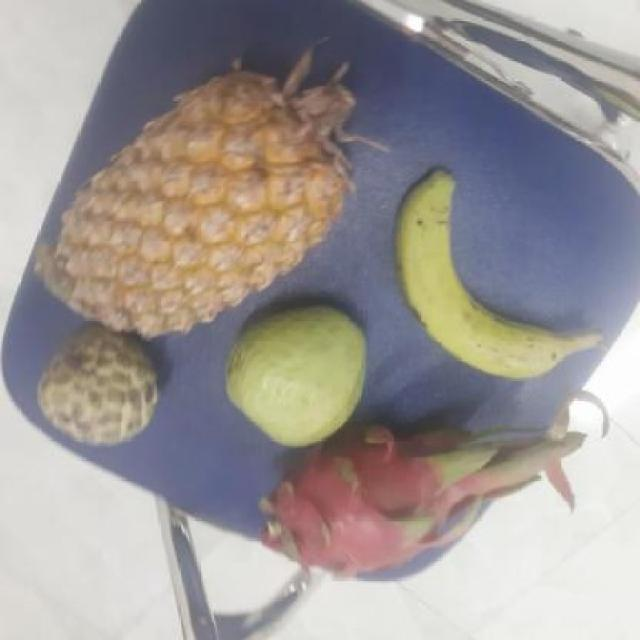banana: (393, 176, 582, 376)
dragon fruit: (265, 419, 464, 584)
guava: (223, 308, 375, 443)
pineapple: (51, 76, 362, 333)
sugar apple: (39, 322, 170, 446)
